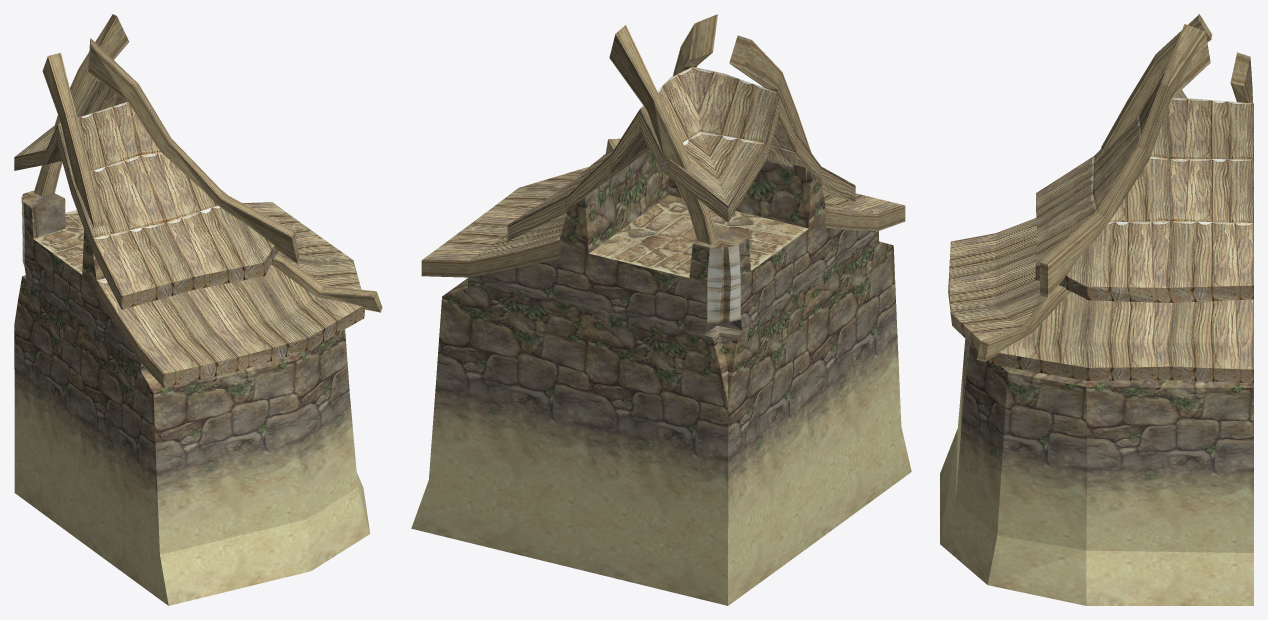
Rendered from C3SMWA10LBB_H.obj.
The picture shows the model from 3 angles, left to right: view 1: azimuth 30°, elevation 25°; view 2: azimuth 150°, elevation 25°; view 3: azimuth 270°, elevation 25°; orthographic projection. The views are drawn at different scales.
Parts seen in each view (by area): view 1: Node 0; view 2: Node 0; view 3: Node 0.
Part boxes in pixels (<box>): Node 0: <box>14,14,382,605</box>; Node 0: <box>411,14,911,605</box>; Node 0: <box>940,14,1253,605</box>.
Bounding box in the file's own units: 9.36 × 15.51 × 9.37.
Materials: 2 (2 with a texture image).
